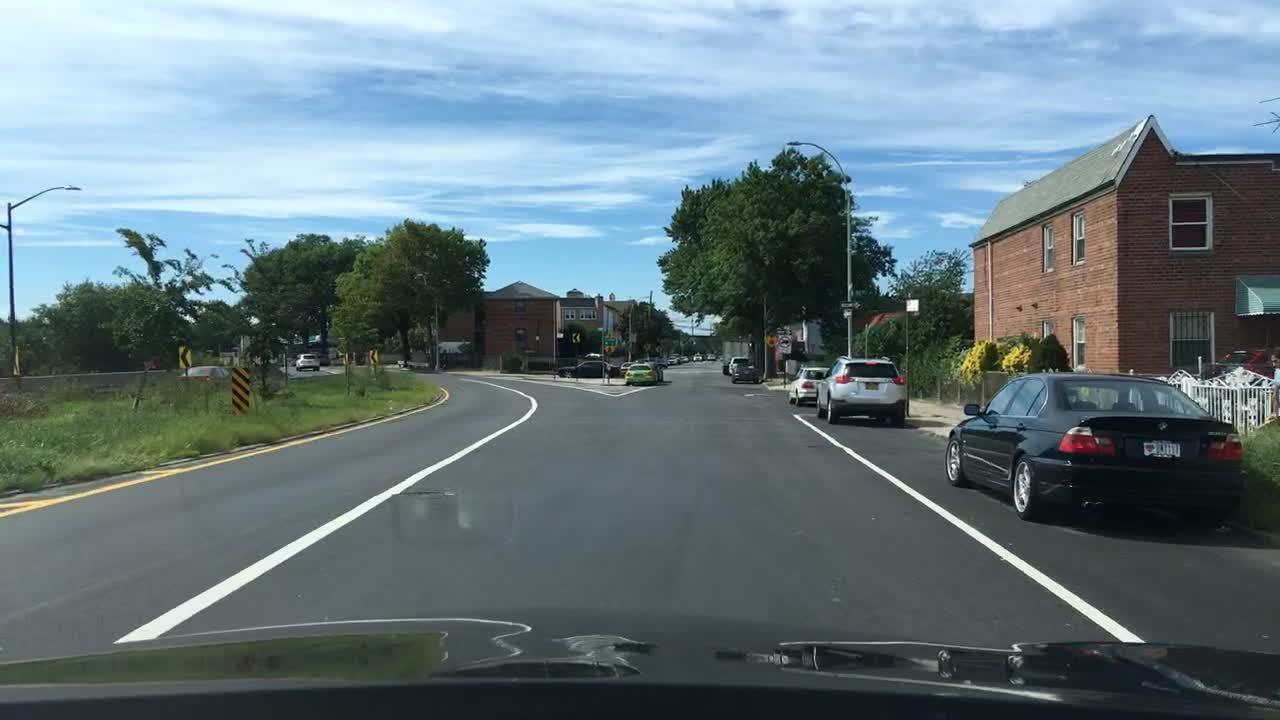bmw: (1152, 417, 1171, 434)
